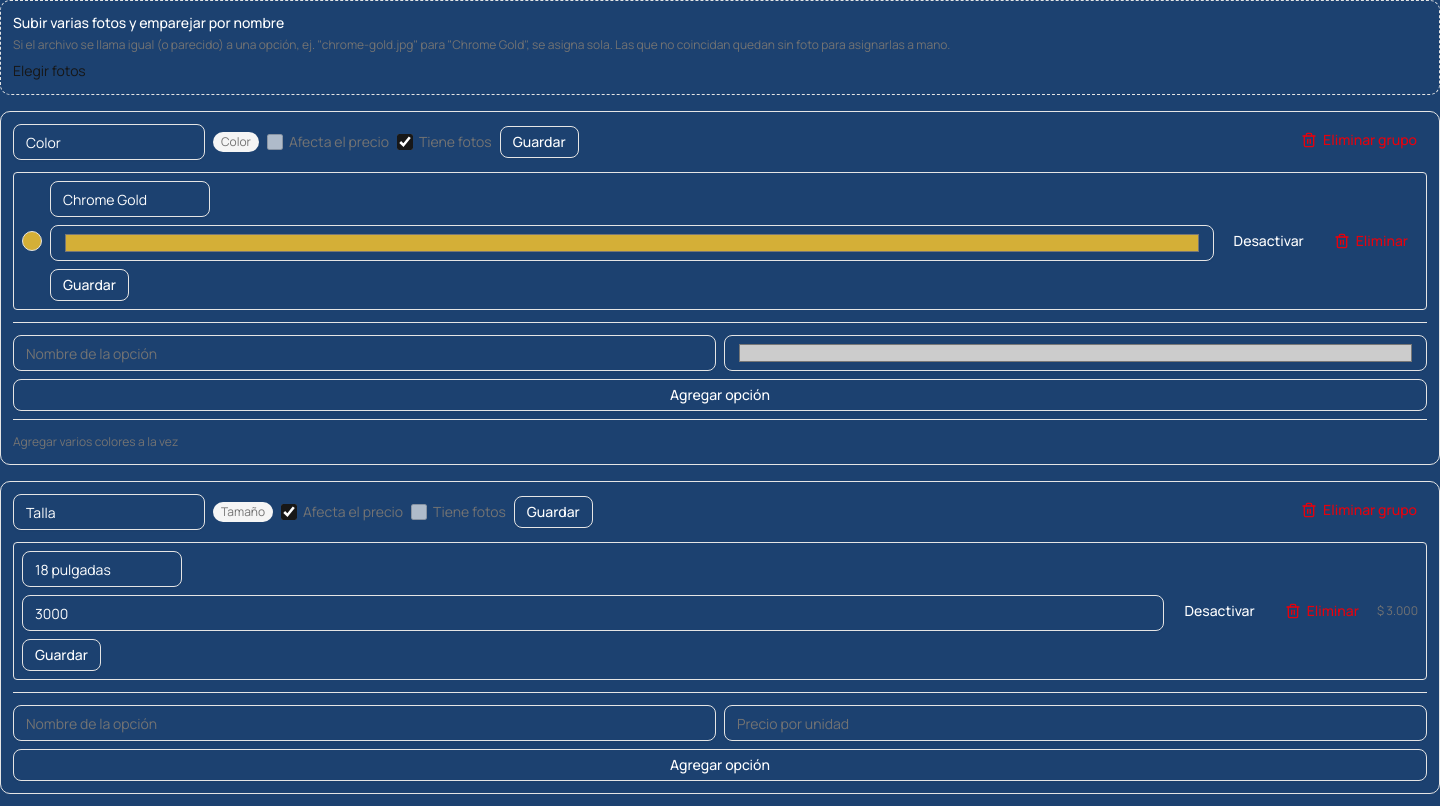
Test case: AttributesManager › toggles the batch color textarea only for color groups
Check: the field with placeholder "un color por línea" is not shown
Click the button "Agregar varios colores a la vez" at [96, 442], box [13,434,178,450]
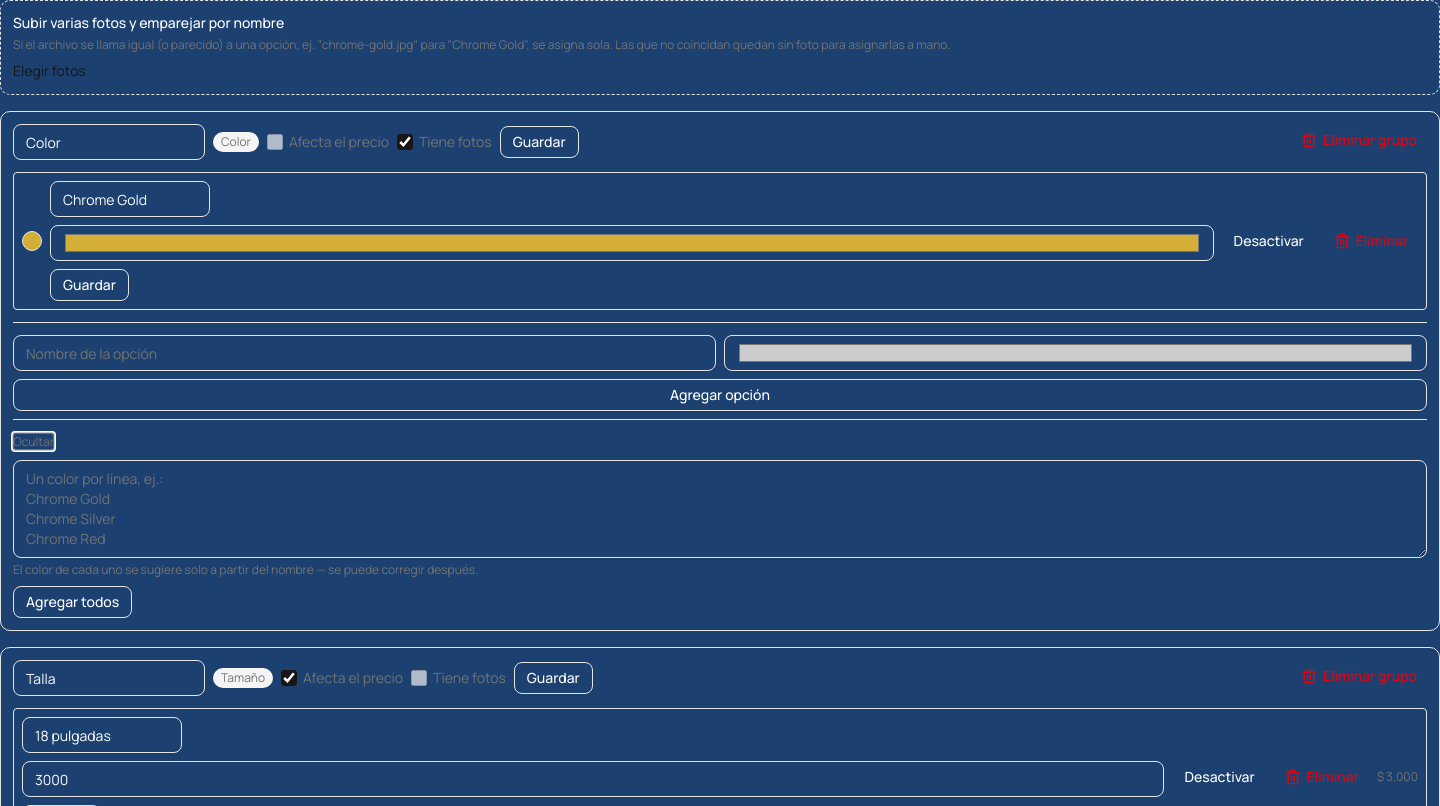
Check: the text box with placeholder "Un color por línea" is shown, box [13,460,1427,558]
